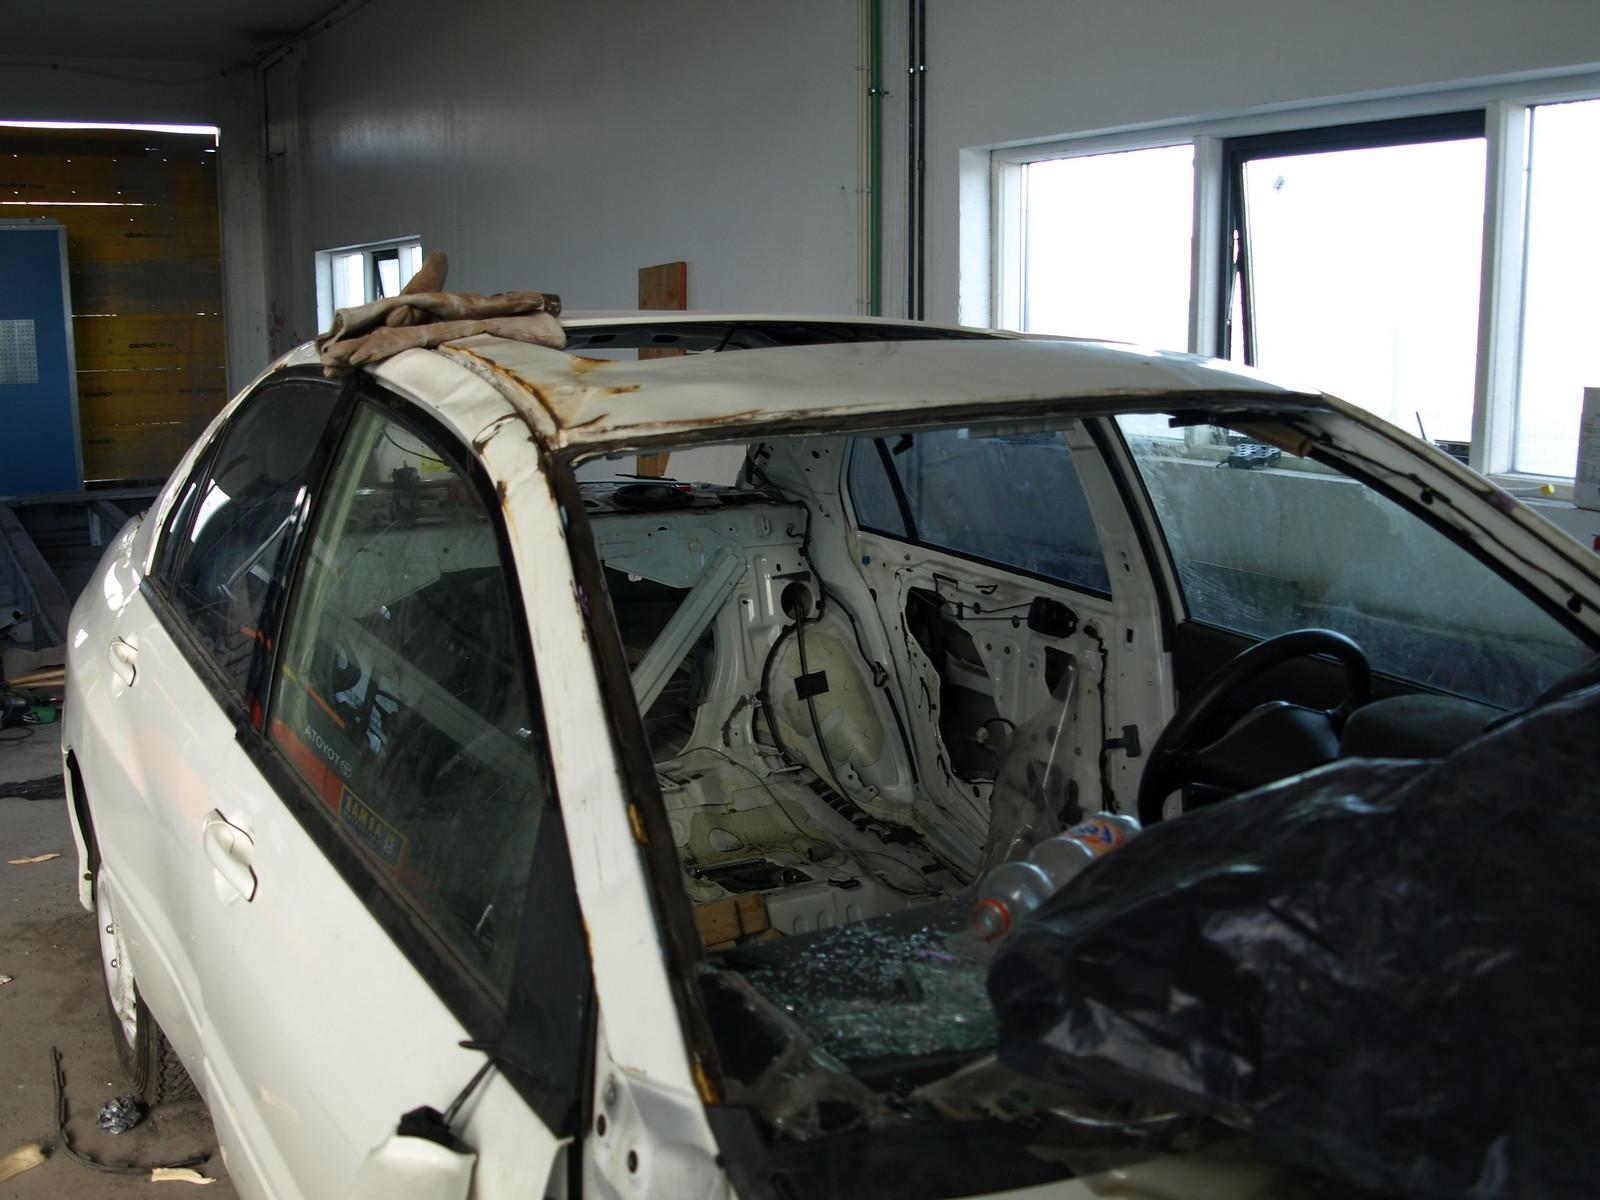Front-Windscreen-Damage: (556, 442, 1599, 1116)
doorouter-dent: (238, 803, 648, 1196)
roof-dent: (370, 260, 1329, 446)
